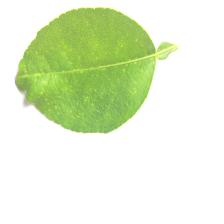greening: (30, 6, 153, 130)
